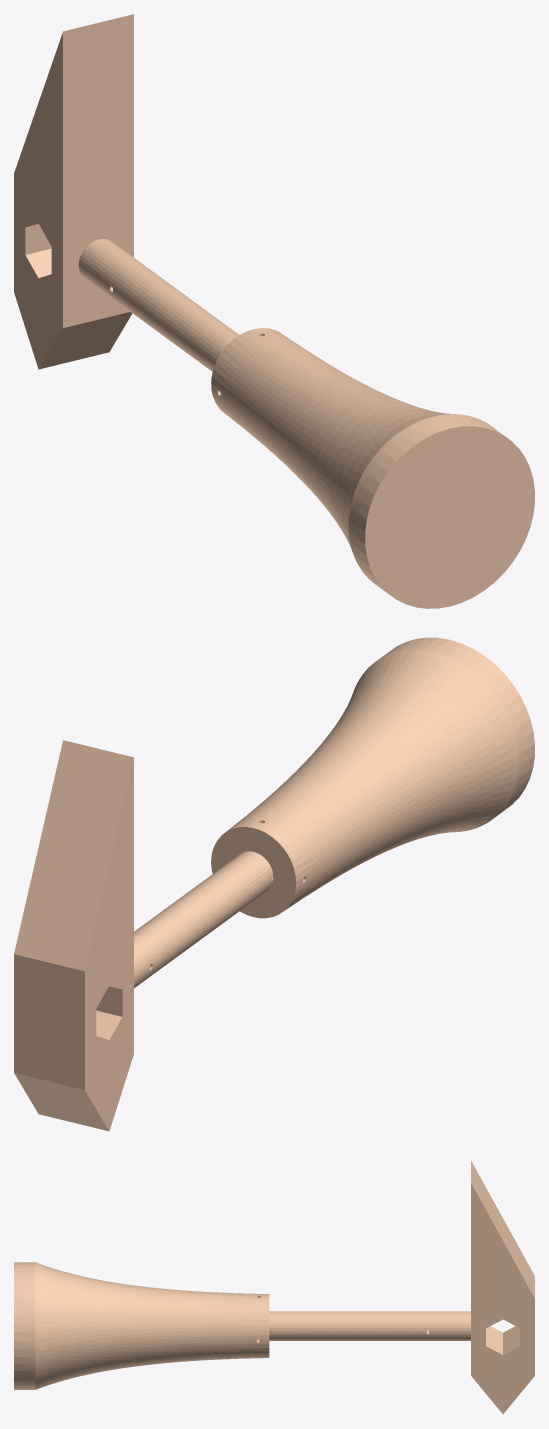
The model's file is Rock Impact Tool 1v.glb.
3 renders of one model, top to bottom at view 1: azimuth 30°, elevation 25°; view 2: azimuth 150°, elevation 25°; view 3: azimuth 270°, elevation 25°, orthographic. The views are drawn at different scales.
Size of the model in its own units: 59.99 by 120 by 245.
